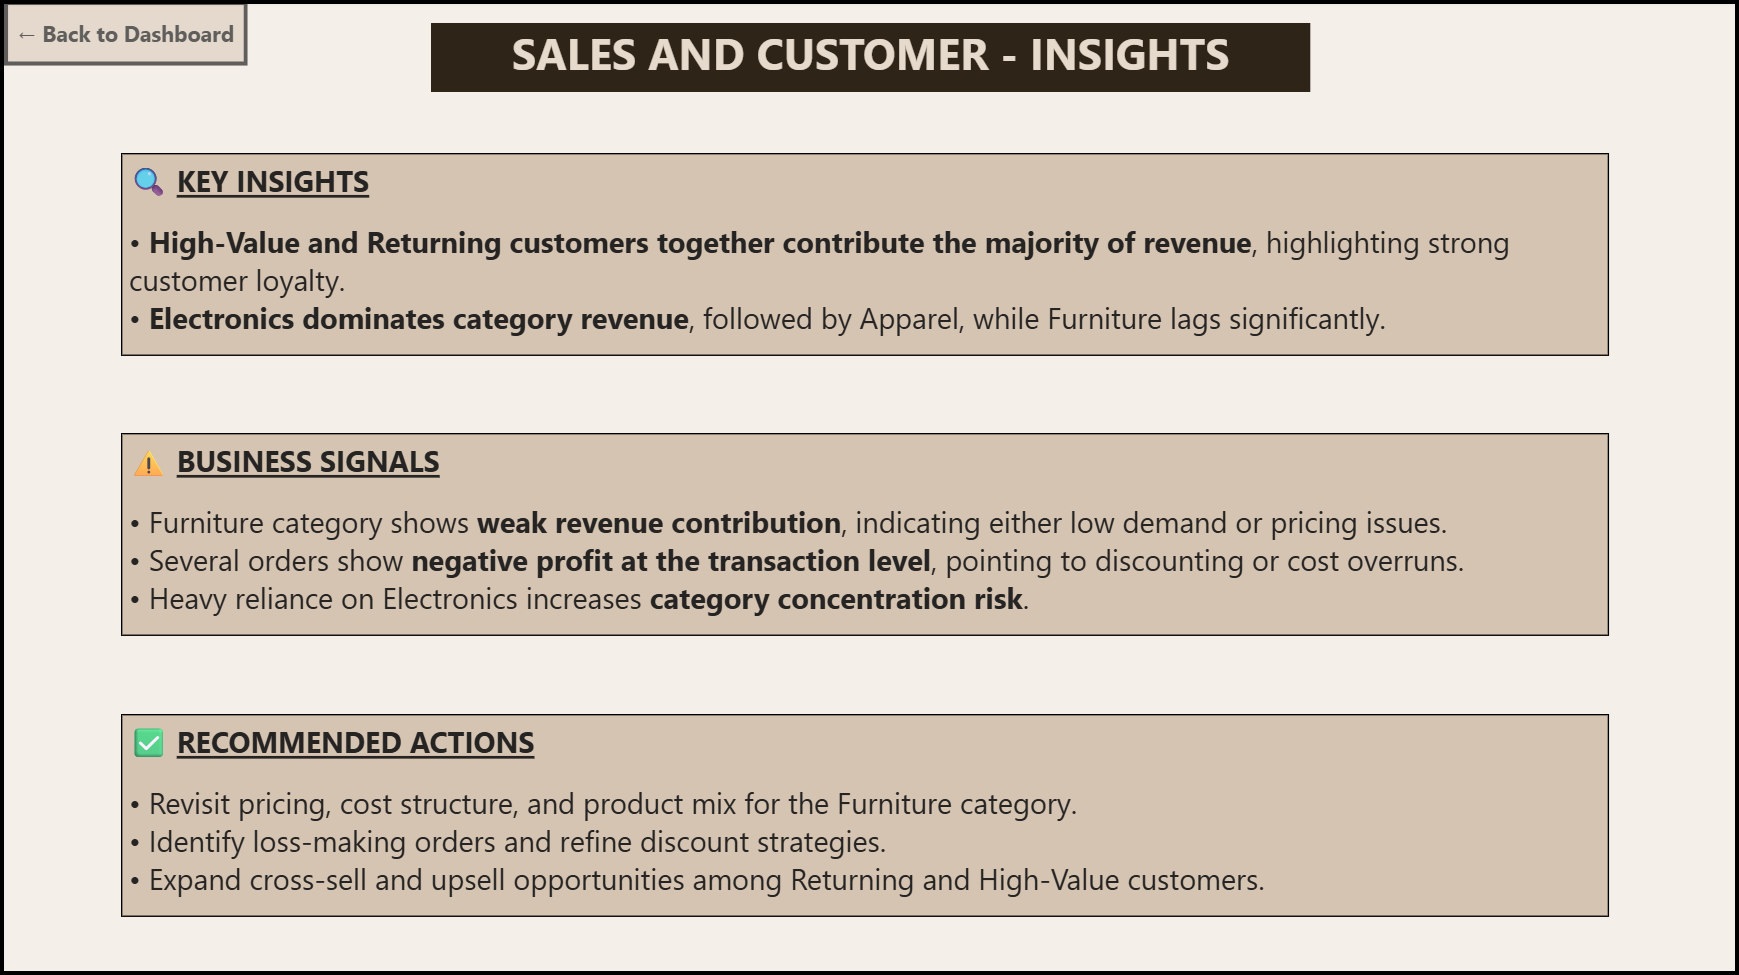

What the dashboard file says about the page in this screenshot:
{"tool":"powerbi","page":{"name":"Sales and Customer Insights","canvas":[1280,720],"ordinal":3},"visuals":[{"type":"textbox","title":"SALES AND CUSTOMER - INSIGHTS","box":[315.4,15.9,650.2,51.2],"z":0},{"type":"textbox","box":[86.3,112.2,1100,150],"z":1000},{"type":"textbox","box":[86.7,319.4,1100,150],"z":2000},{"type":"textbox","box":[86.7,527.4,1100,150],"z":3000},{"type":"actionButton","title":"← Back to Dashboard","box":[0,0,180.2,47.7],"z":4000}]}

Visuals, with their boxes in screenshot pixels (x1, y1, x2, y2), scaled from the page's 1280x720 canvas onto the 1739x975 screenshot:
"SALES AND CUSTOMER - INSIGHTS" textbox: [left=429, top=22, right=1312, bottom=91]
textbox: [left=117, top=152, right=1612, bottom=355]
textbox: [left=118, top=433, right=1612, bottom=636]
textbox: [left=118, top=714, right=1612, bottom=917]
"← Back to Dashboard" actionButton: [left=0, top=0, right=245, bottom=65]
